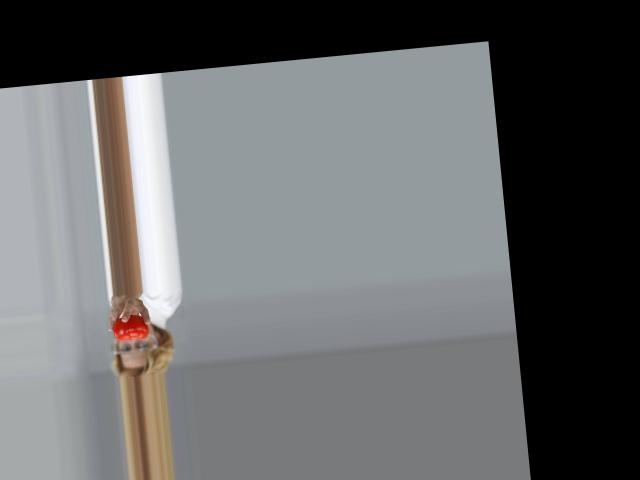tomato: (112, 313, 150, 341)
